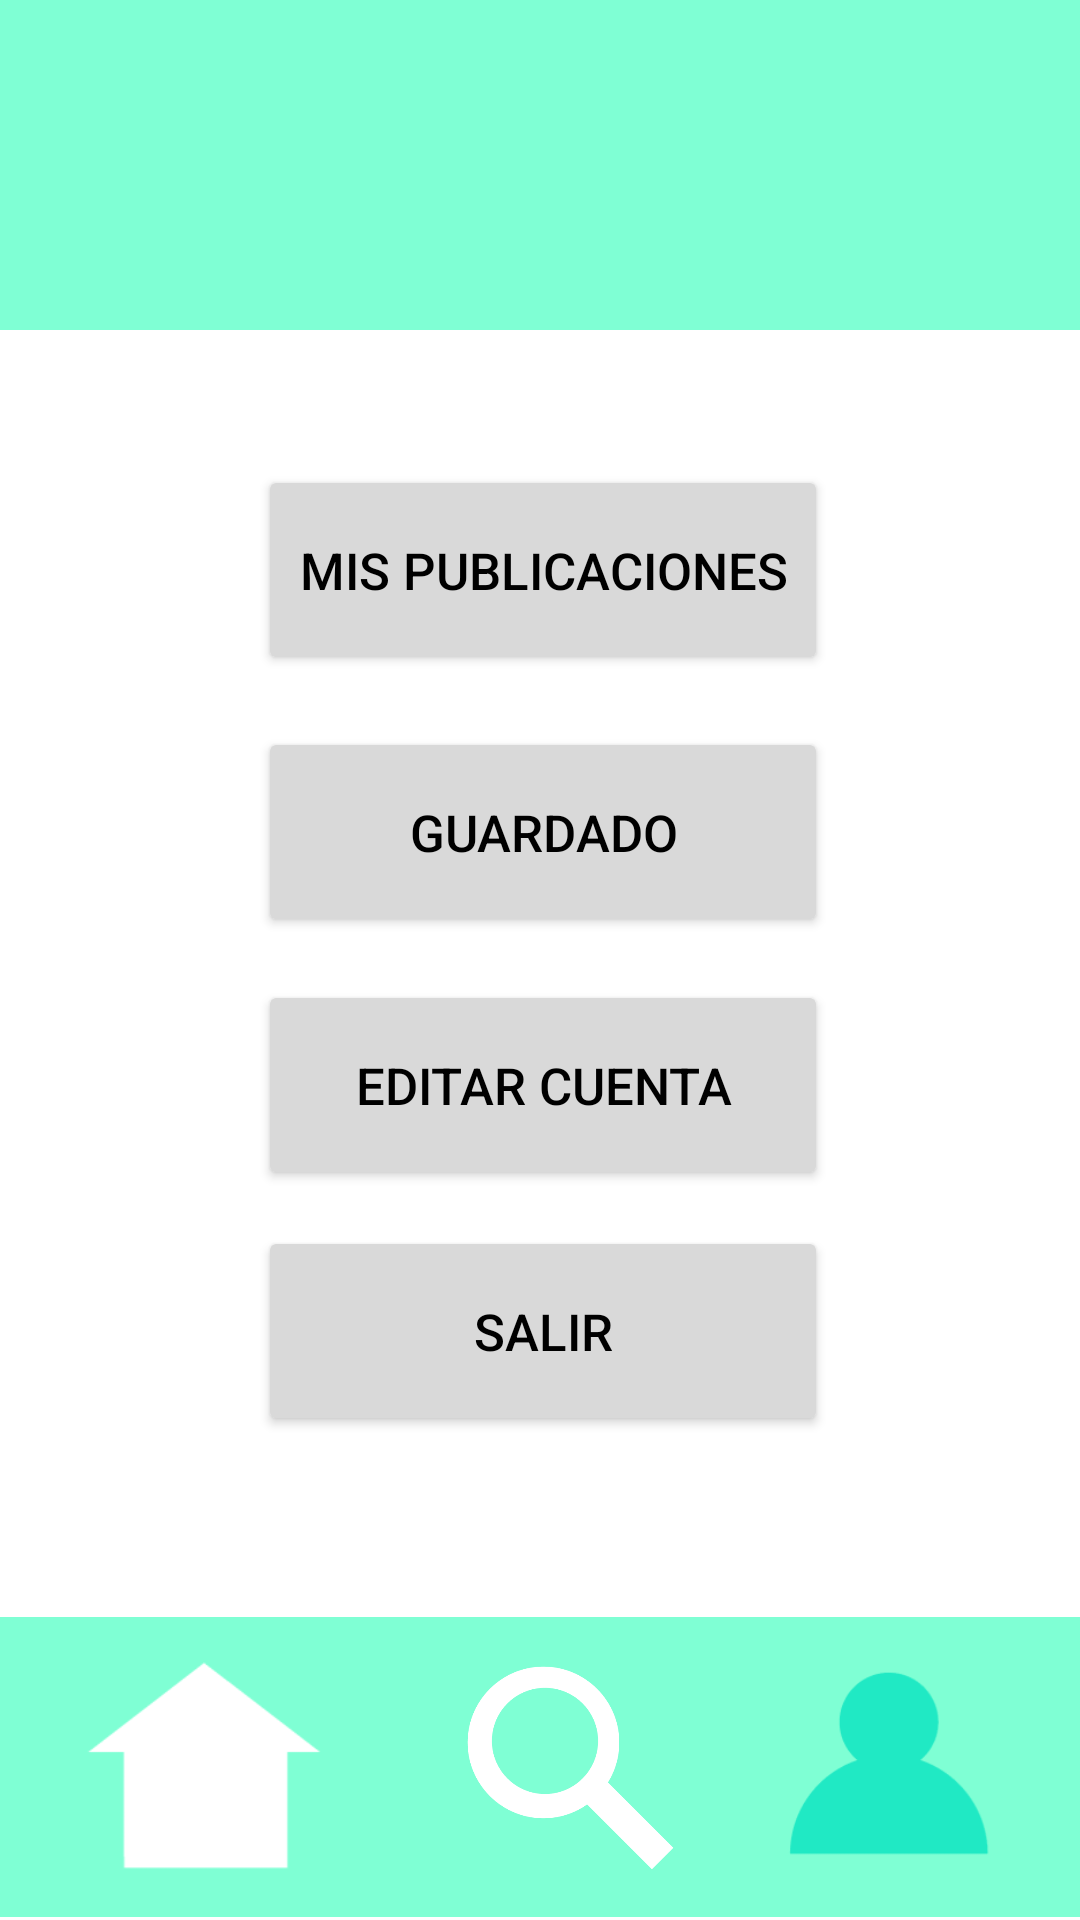

Named icons in this screenshot (1080 x 1920) and their centers, [x,y]:
Botón forma de casa: [204,1766]
Botón forma lupa: [570,1767]
Botón forma usuario: [889,1763]
